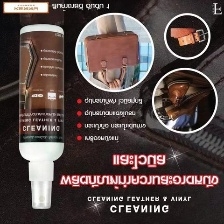cleaning_solution: (15, 22, 66, 211)
